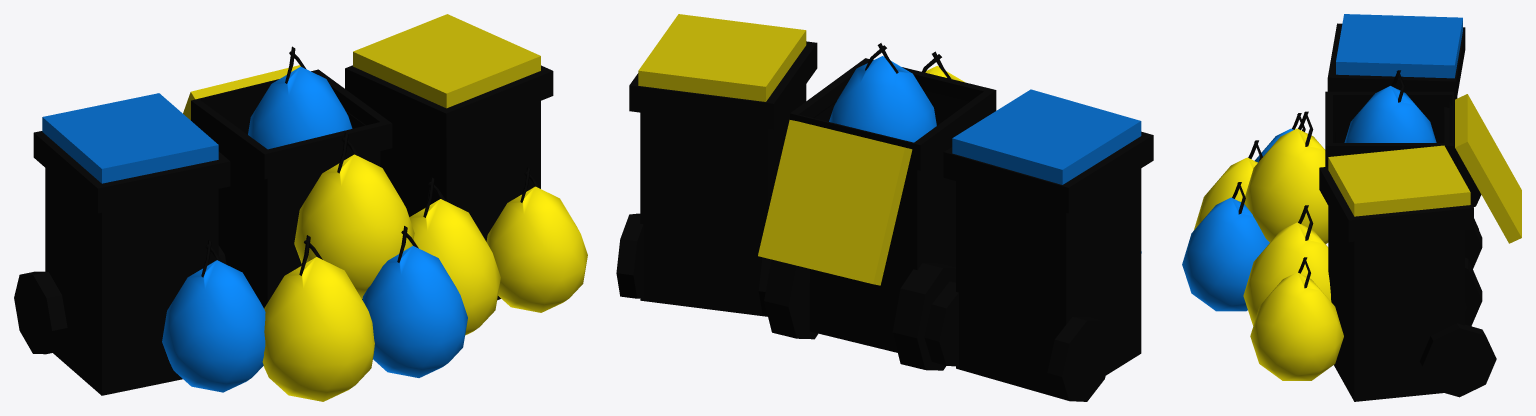
Rendered from Poubelles.fbx.
3 views of the same model, side by side, from view 1: azimuth 30°, elevation 25°; view 2: azimuth 150°, elevation 25°; view 3: azimuth 270°, elevation 25° (orthographic). The views are drawn at different scales.
Visible parts, largest first — view 1: Cube; view 2: Cube; view 3: Cube.
Boxes of the visible parts, box(x1,y1,x2,y2) form: Cube: box(14, 14, 587, 401); Cube: box(616, 14, 1153, 401); Cube: box(1182, 14, 1521, 401).
Size of the model in its own units: 743 by 538 by 431.
